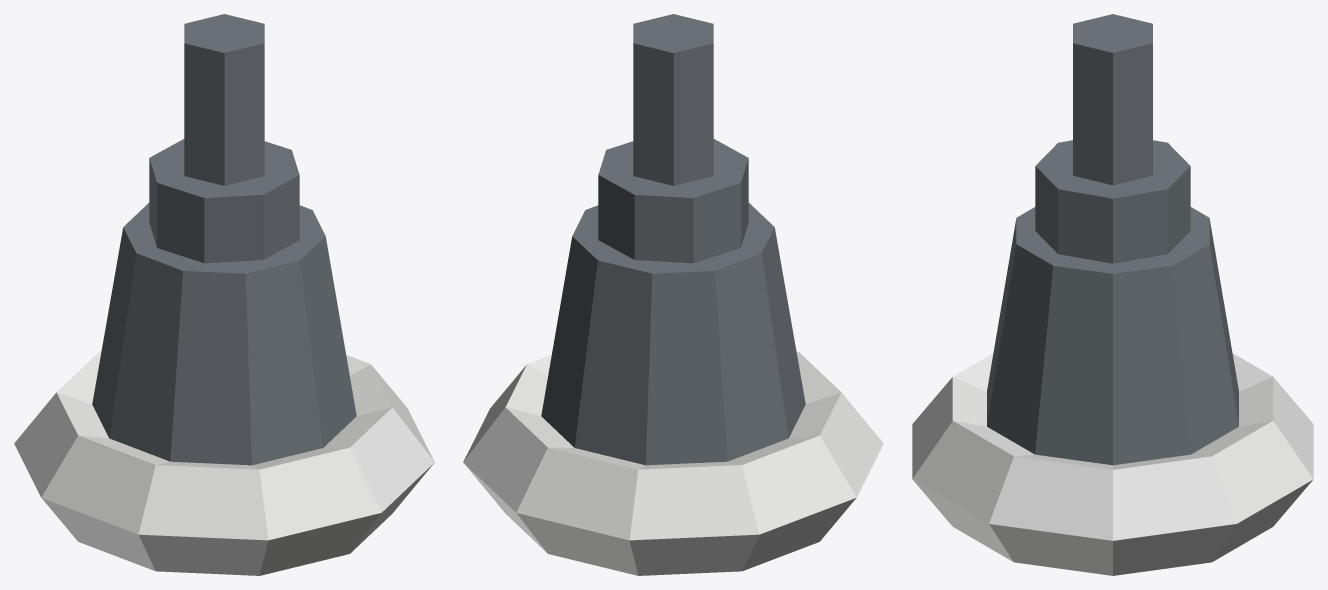
The model's file is SM_LPI_Light_Spot_01.fbx.
The picture shows the model from 3 angles, left to right: view 1: azimuth 30°, elevation 25°; view 2: azimuth 150°, elevation 25°; view 3: azimuth 270°, elevation 25°; orthographic projection.
Parts seen in each view (by area): view 1: SM_LPI_Light_Spot_01; view 2: SM_LPI_Light_Spot_01; view 3: SM_LPI_Light_Spot_01.
Boxes of the visible parts, left/top/right/bottom form: SM_LPI_Light_Spot_01: left=14, top=14, right=434, bottom=575; SM_LPI_Light_Spot_01: left=463, top=14, right=883, bottom=575; SM_LPI_Light_Spot_01: left=912, top=14, right=1313, bottom=575.
Size of the model in its own units: 0.1646 by 0.2028 by 0.1565.
